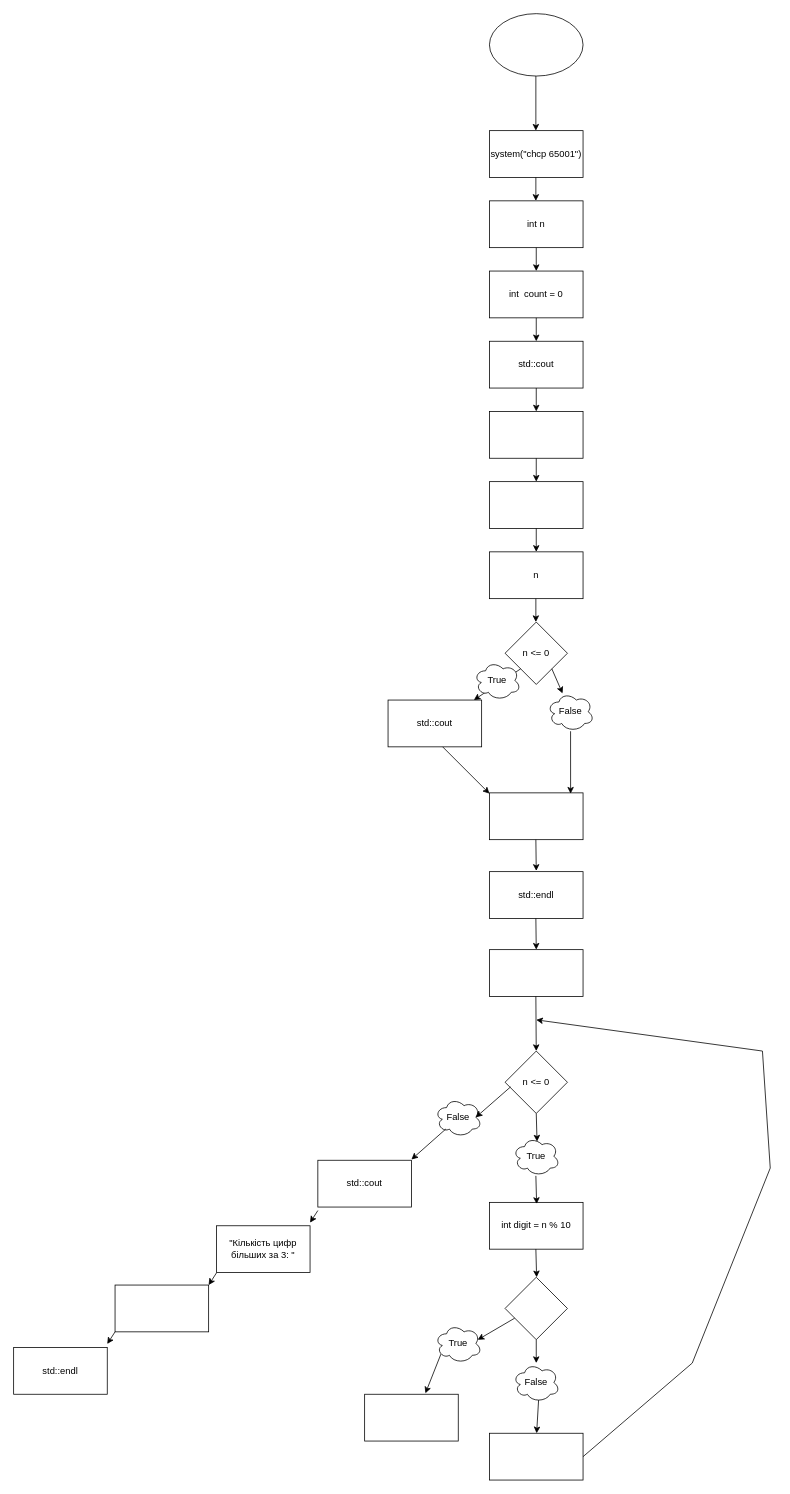
Some shapes in this 790 by 1494 pixel diagram are drawn without their labels. Each missing label, with the centre of its shape:
"Введене число натуральне ": pixel 536 816
"Введіть натуральне число: ": pixel 536 434
count: pixel 161 1308
count++: pixel 411 1417
digit > 3: pixel 535 1308
else: pixel 536 972
int(main): pixel 536 44
n /= 10: pixel 536 1456
std::cin: pixel 536 504
